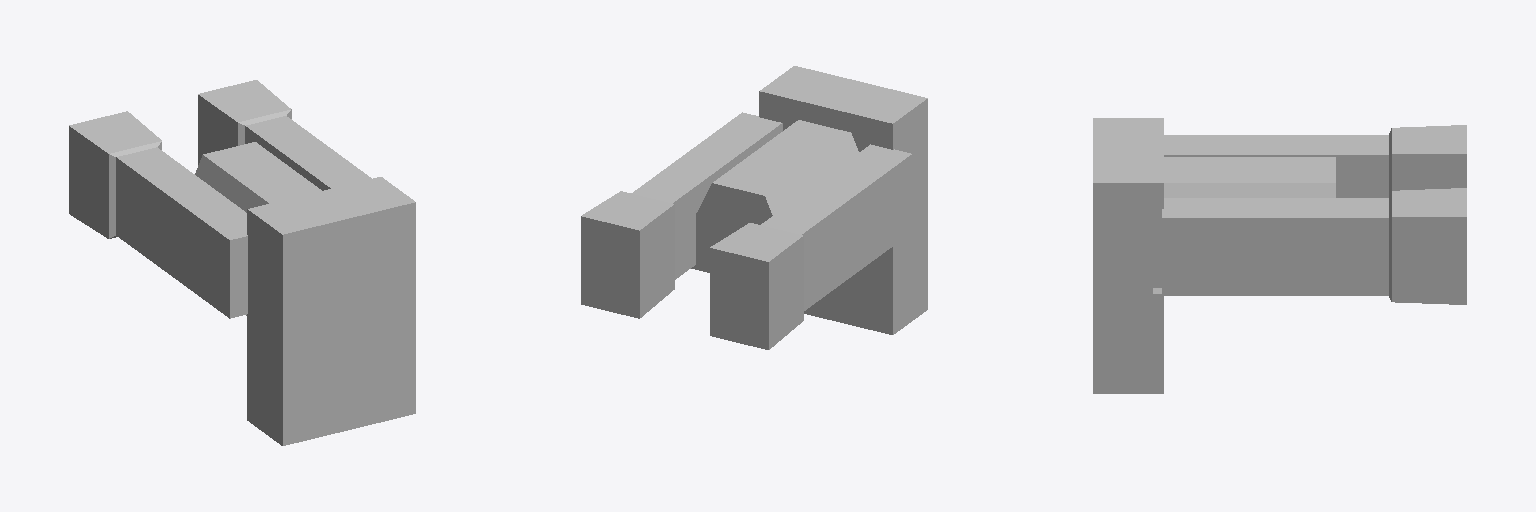
File: nailgun.obj
3 views of the same model, side by side, from view 1: azimuth 30°, elevation 25°; view 2: azimuth 150°, elevation 25°; view 3: azimuth 270°, elevation 25° (orthographic).
Parts seen in each view (by area): view 1: Cube.002, n1, n2, Cube; view 2: n1, Cube.002, n2, Cube; view 3: n2, Cube.002, n1, Cube.
Boxes of the visible parts, x1,y1,x2,y2 form: Cube.002: [247, 177, 415, 445]; n1: [69, 111, 247, 318]; n2: [198, 80, 371, 190]; Cube: [195, 142, 321, 315]; n1: [710, 144, 912, 349]; Cube.002: [759, 66, 927, 334]; n2: [581, 112, 782, 318]; Cube: [691, 120, 858, 272]; n2: [1162, 188, 1466, 304]; Cube.002: [1093, 118, 1163, 393]; n1: [1164, 125, 1466, 197]; Cube: [1153, 157, 1335, 293].
Bounding box in the file's own units: 0.8394 × 0.9016 × 1.44.